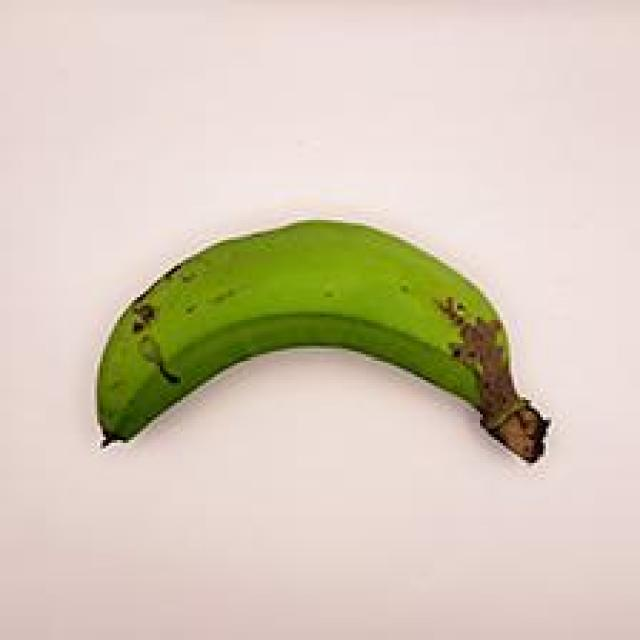Raw: (68, 188, 566, 520)
